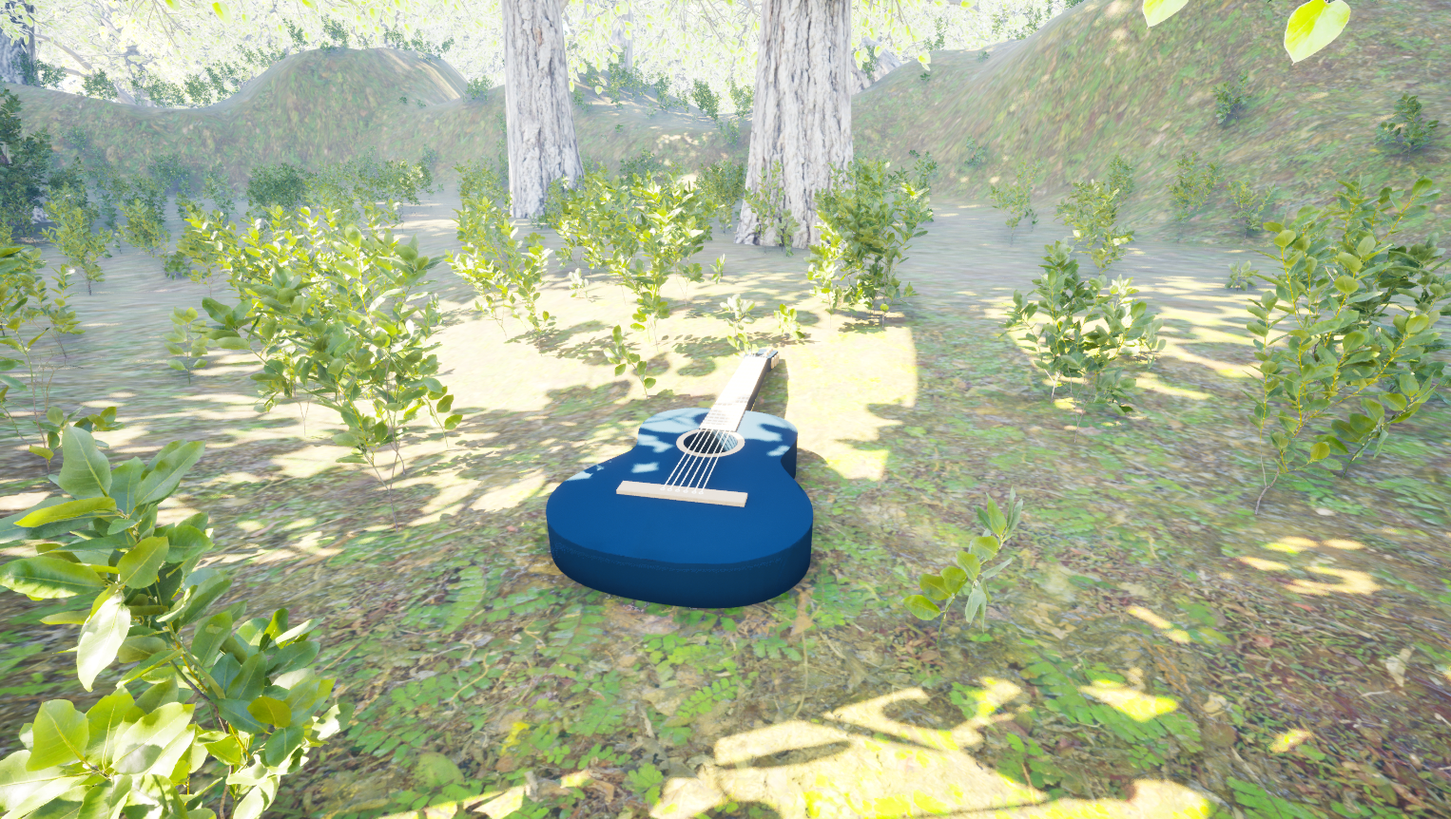Guitar: (505, 335, 835, 633)
